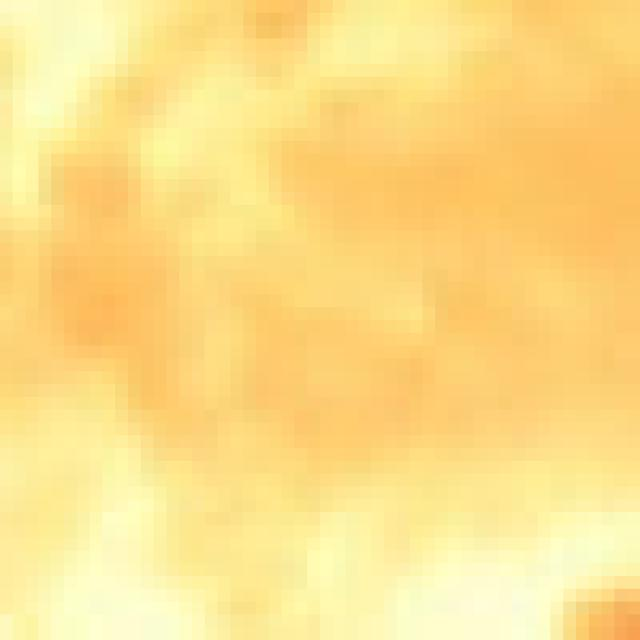fire: (9, 6, 628, 640)
